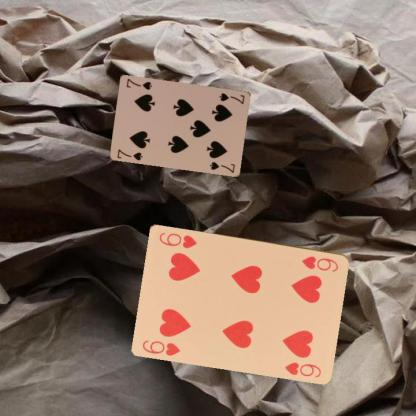6h: (140, 337, 182, 357), (299, 253, 340, 273)
7s: (115, 146, 144, 162), (217, 90, 246, 105)
